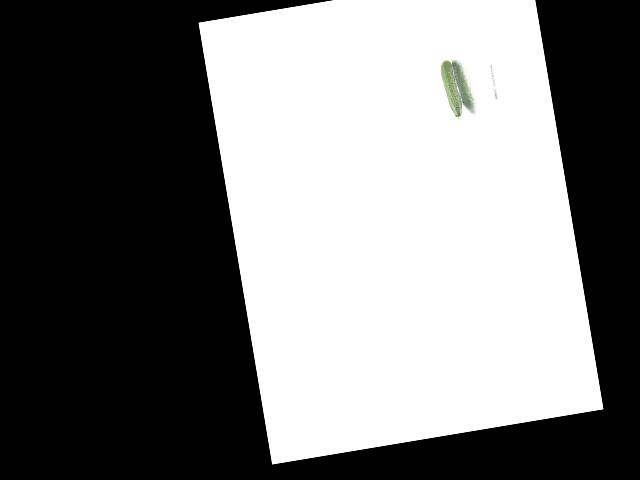cucumber: (439, 59, 465, 120)
